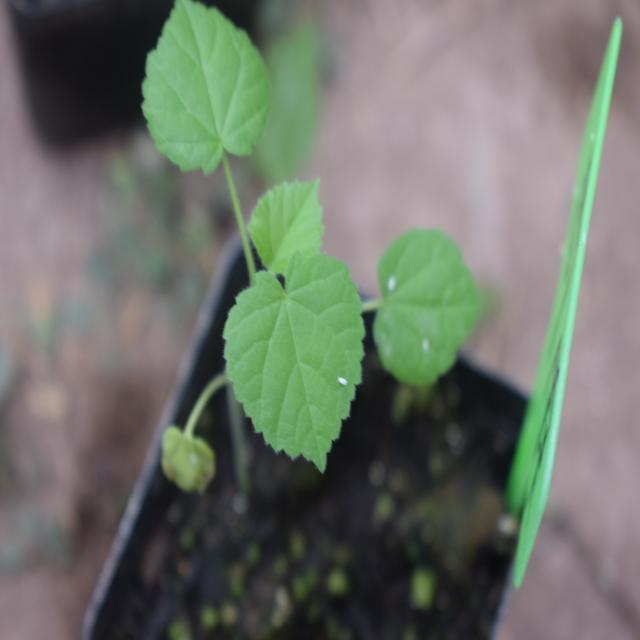abutilon theophrasti: (140, 4, 478, 473)
